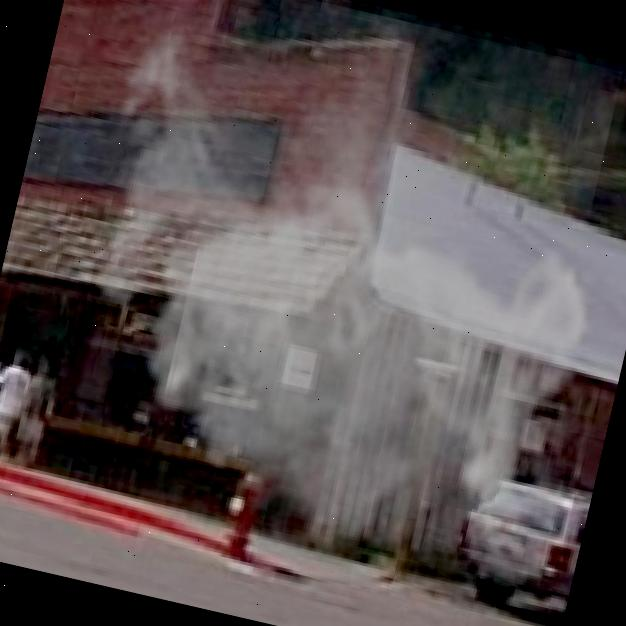smoke: (10, 0, 626, 620)
